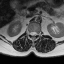CCS_normal: (32, 29, 34, 39)
LFS_normal: (36, 30, 38, 37)
LLS_normal: (34, 30, 36, 37)
RFS_normal: (28, 29, 30, 36)
RLS_normal: (30, 30, 32, 37)
